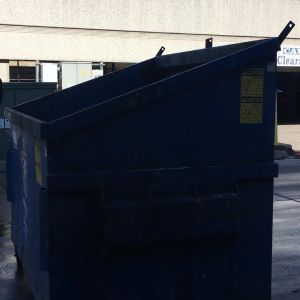Dumpster: (1, 18, 299, 300)
